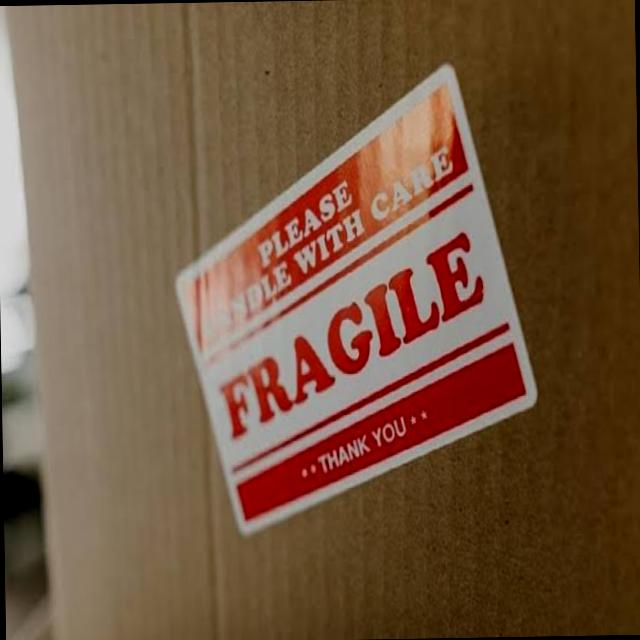carton_box: (3, 0, 640, 640)
fragile_label: (174, 124, 556, 518)
